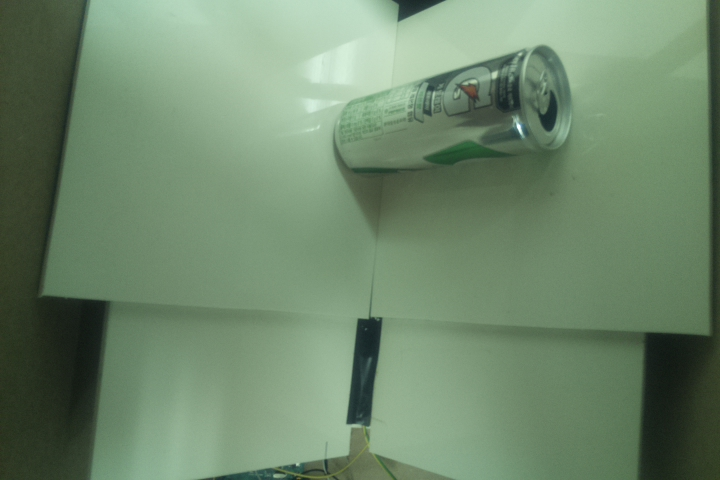can: (329, 42, 574, 177)
